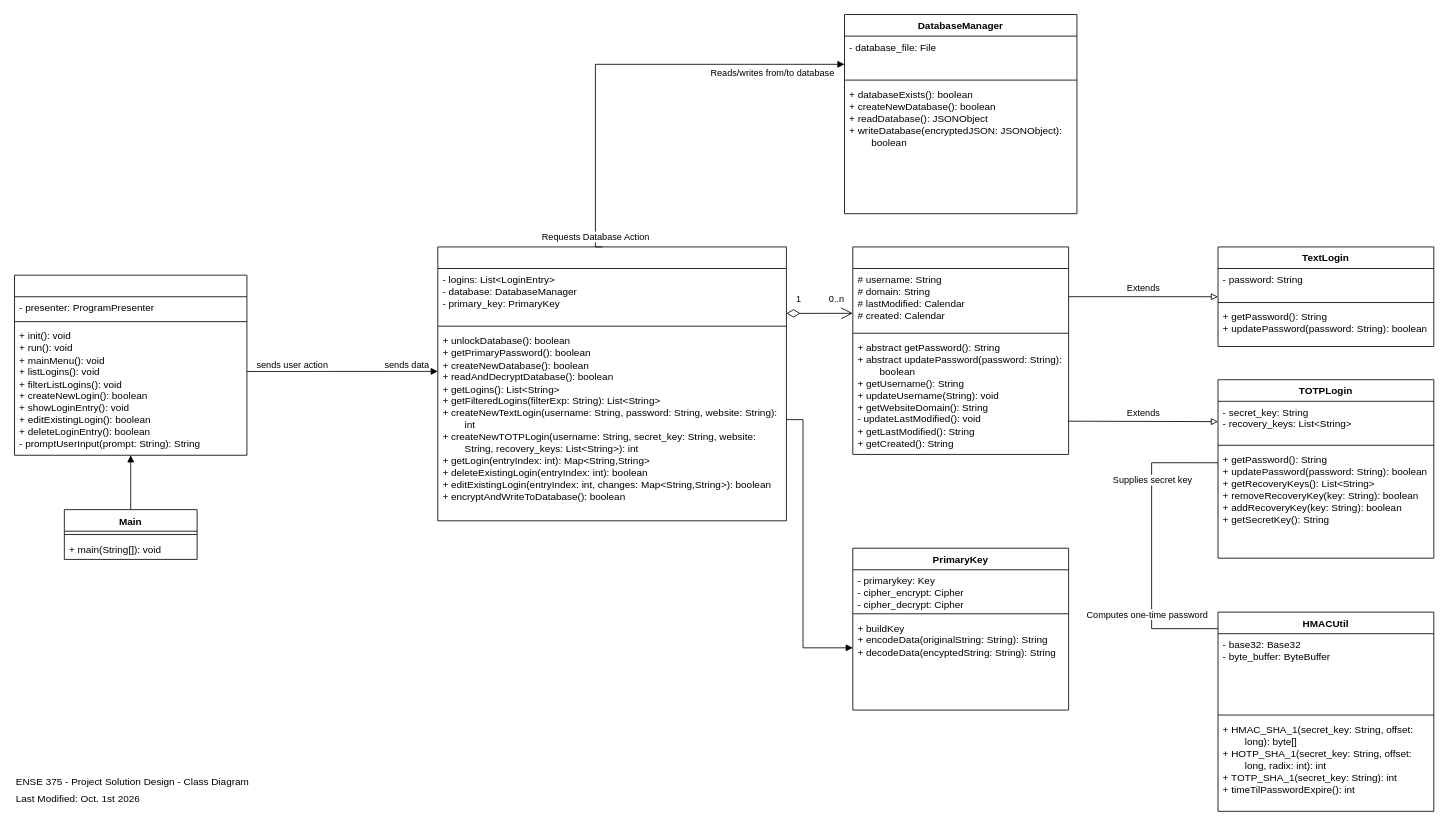
Some shapes in this 1448 by 828 pixel diagram are drawn without their labels. The box of each missing label's shape, as (x1, y1, x2, y2) in pixels:
<<abstract>> LoginEntry: (852, 246, 1069, 454)
LoginView: (14, 274, 247, 455)
ProgramPresenter: (437, 246, 786, 521)
